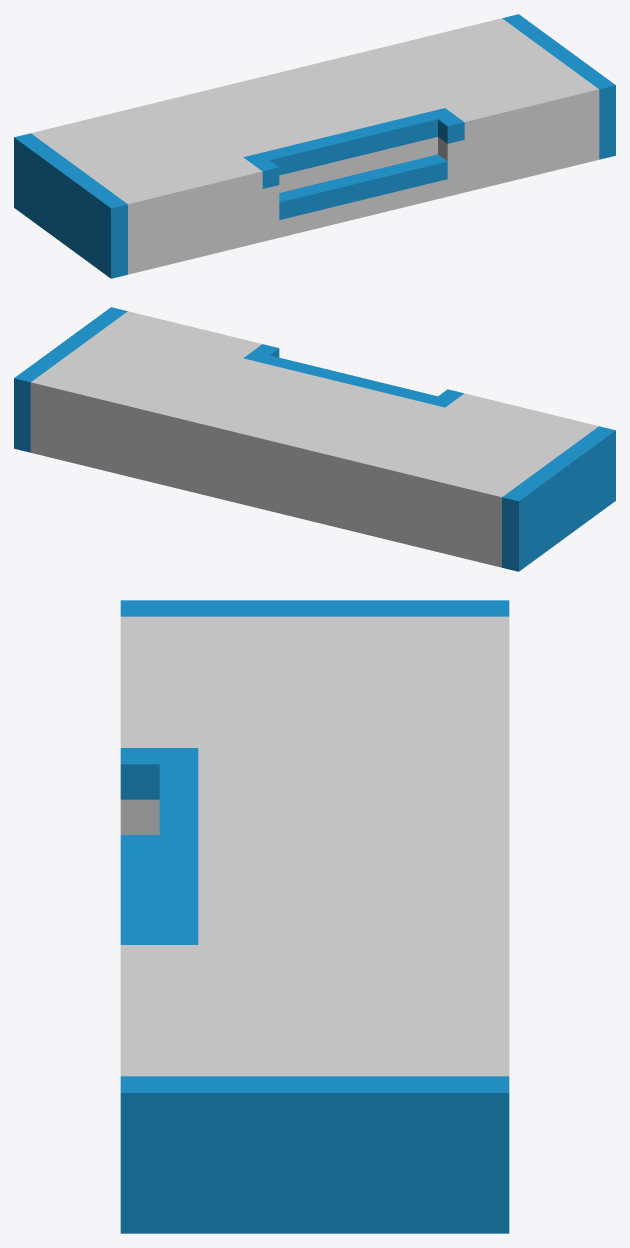
Rendered from AlleyToWide.fbx.
3 renders of one model, top to bottom at view 1: azimuth 30°, elevation 25°; view 2: azimuth 150°, elevation 25°; view 3: azimuth 270°, elevation 25°, orthographic. The views are drawn at different scales.
Parts seen in each view (by area): view 1: Box_4; view 2: Box_4; view 3: Box_4.
Boxes of the visible parts, x1,y1,x2,y2 form: Box_4: (14,14,615,278); Box_4: (14,307,615,571); Box_4: (120,600,509,1233).
Bounding box in the file's own units: 30 × 4 × 10.
